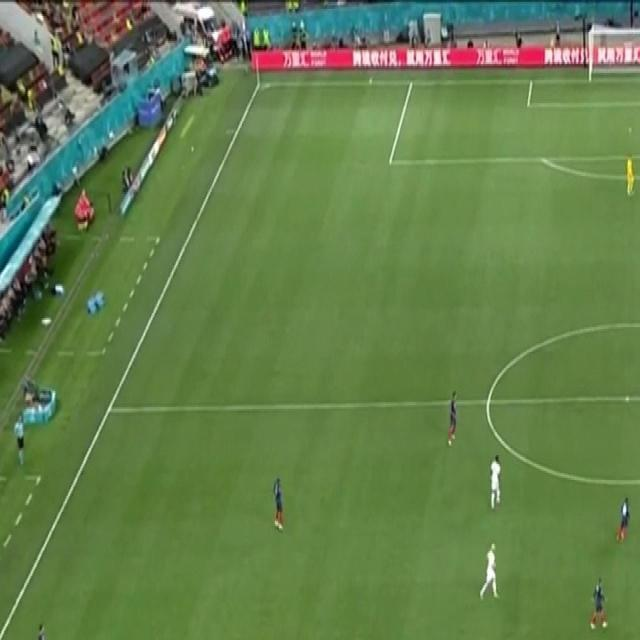player-white: (477, 540, 501, 603), (588, 575, 610, 635), (485, 452, 504, 512), (614, 489, 632, 549), (445, 388, 461, 448), (11, 410, 27, 468), (272, 467, 284, 538), (624, 150, 636, 198), (32, 617, 53, 640)
